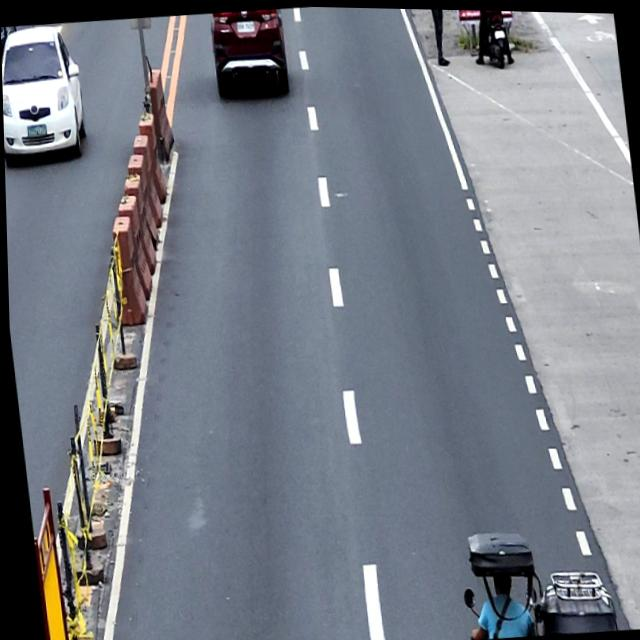Car: (0, 20, 89, 167), (207, 6, 290, 99)
License-Plate: (24, 121, 46, 138), (235, 18, 255, 32), (493, 27, 505, 37)
Motorcycle: (480, 8, 514, 68)
Tricycle: (451, 517, 617, 640)
